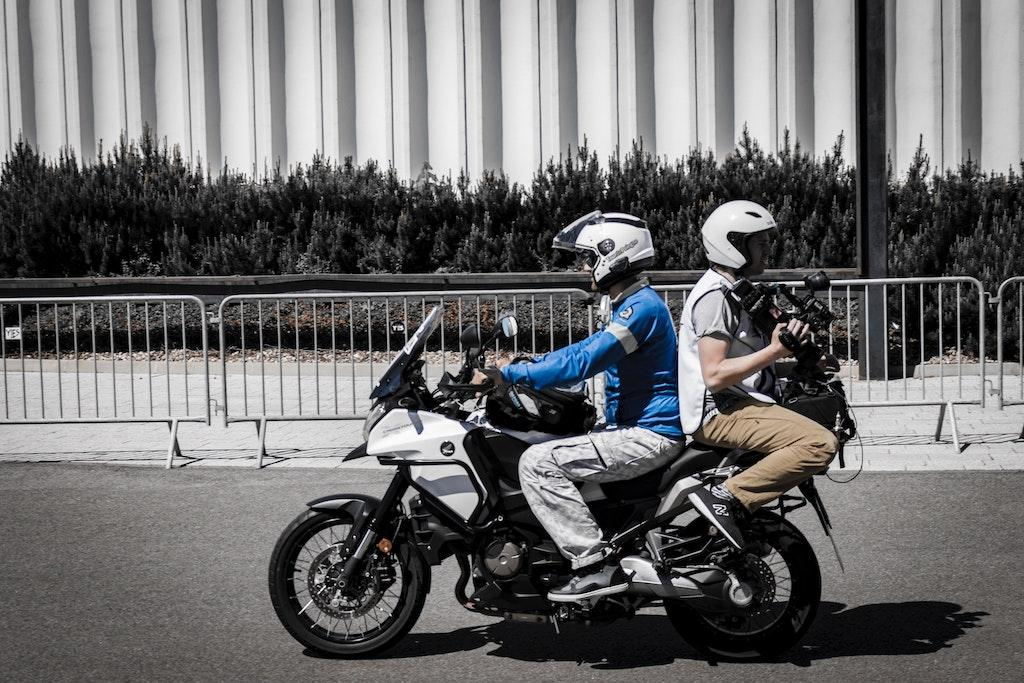helmet: (550, 209, 658, 296), (700, 198, 779, 280)
